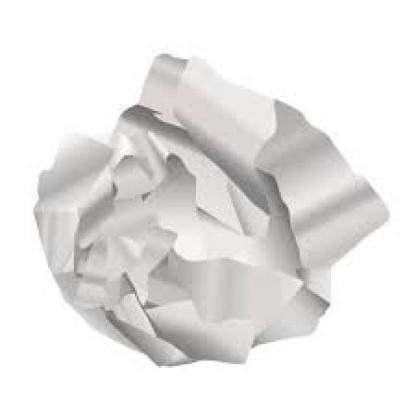paper: (30, 52, 388, 366)
